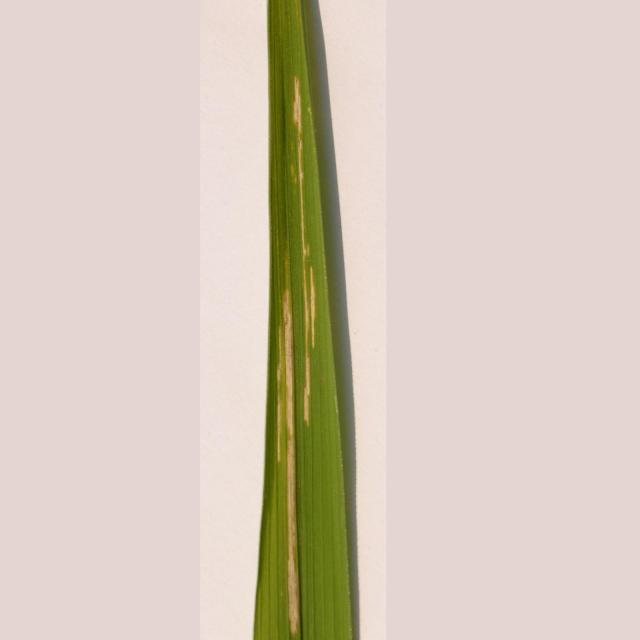leaf blight: (259, 72, 330, 632)
